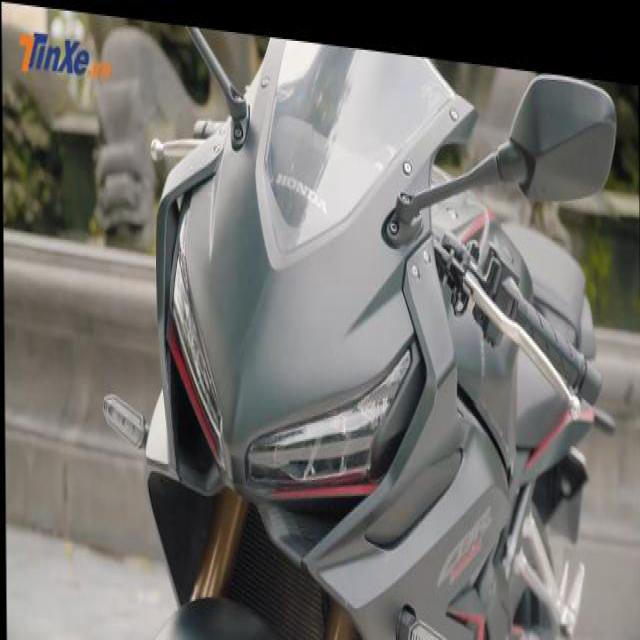CBR650R: (135, 12, 613, 638)
